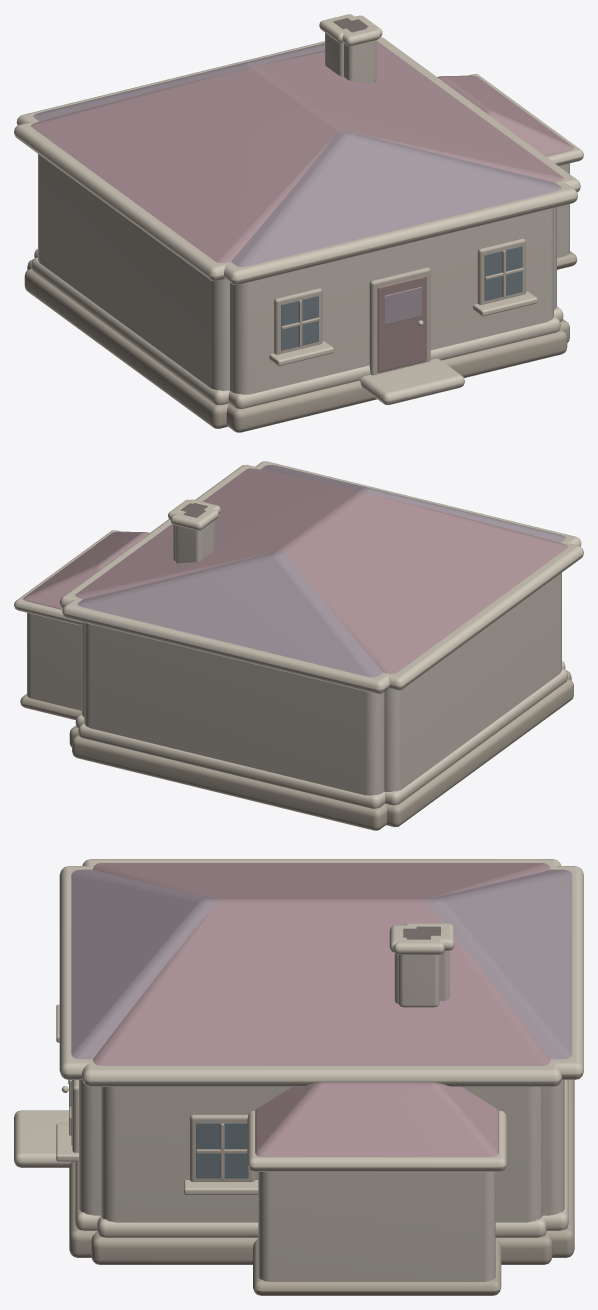
The model's file is small-island-props-v38.glb.
3 renders of one model, top to bottom at view 1: azimuth 30°, elevation 25°; view 2: azimuth 150°, elevation 25°; view 3: azimuth 270°, elevation 25°, orthographic. The views are drawn at different scales.
Visible parts, largest first — view 1: cottage-pink, cottage-taupe, cottage-annex; view 2: cottage-pink, cottage-taupe, cottage-annex; view 3: cottage-pink, cottage-taupe, cottage-annex.
Part boxes in pixels (box(x1,y1,x2,y2)): cottage-pink: box(14, 15, 580, 428); cottage-taupe: box(16, 14, 577, 432); cottage-annex: box(334, 18, 583, 387); cottage-pink: box(59, 464, 583, 827); cottage-taupe: box(62, 461, 581, 830); cottage-annex: box(14, 499, 220, 720); cottage-pink: box(43, 859, 561, 1264); cottage-taupe: box(14, 866, 583, 1257); cottage-annex: box(51, 925, 506, 1295).
Size of the model in its own units: 11.1 by 5.74 by 10.33.
